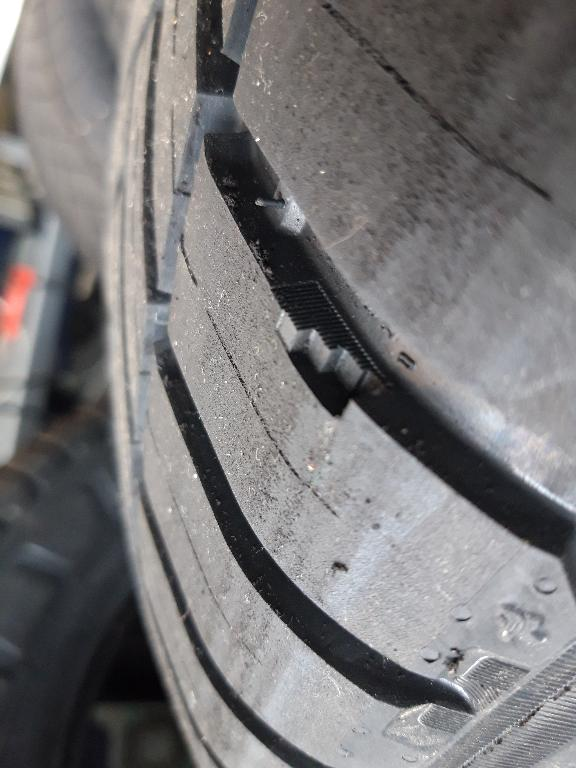temoin:75: (270, 305, 400, 426)
